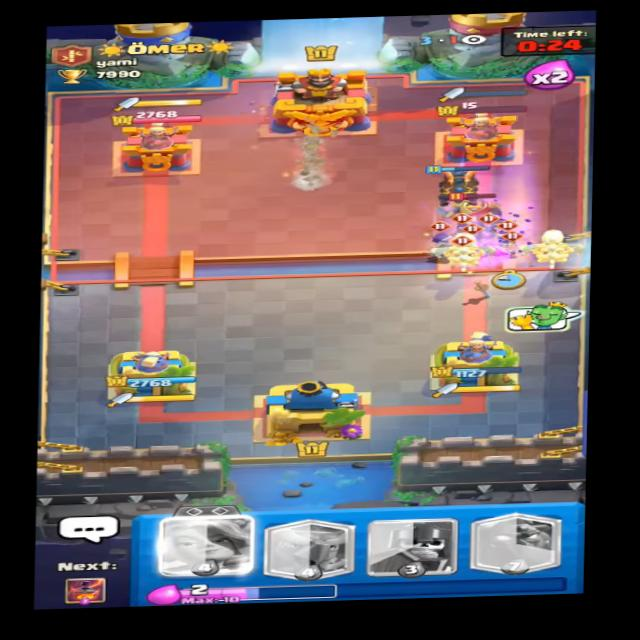evo-skeleton: (496, 233, 526, 255), (434, 227, 460, 248), (462, 227, 486, 244)
knight: (449, 190, 505, 220)
